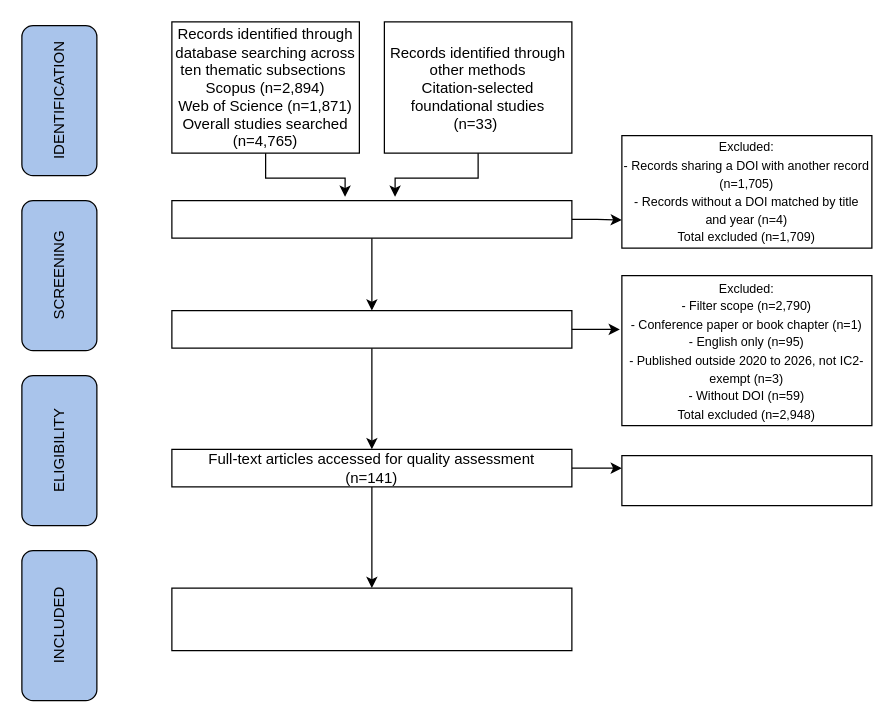
This 894x723 diagram has some shape labels left out. Each missing label, with the centre of its shape:
Records after duplicates removed (n=3,089): the point at 371,218
Records screened (title and abstract) (n=3,089): the point at 371,328
Studies excluded below quality threshold ( < 2.5 ) (n=54): the point at 746,480
Studies included in qualitative synthesis (n=87): the point at 371,619
